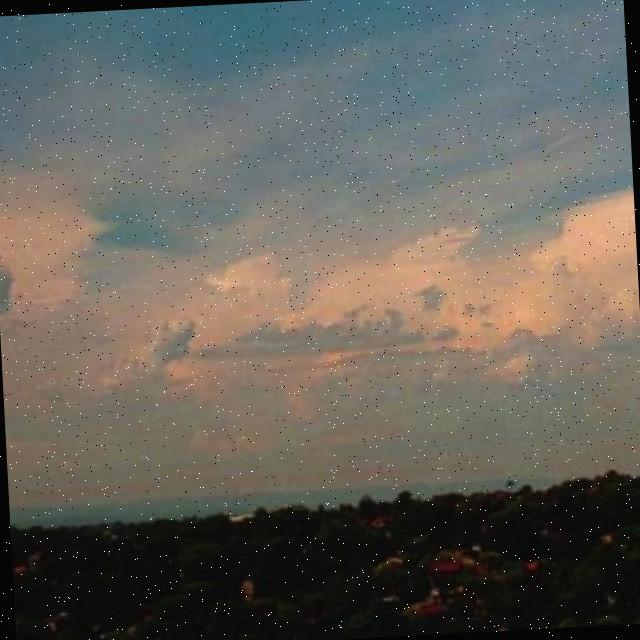Cs: (1, 84, 640, 491)
